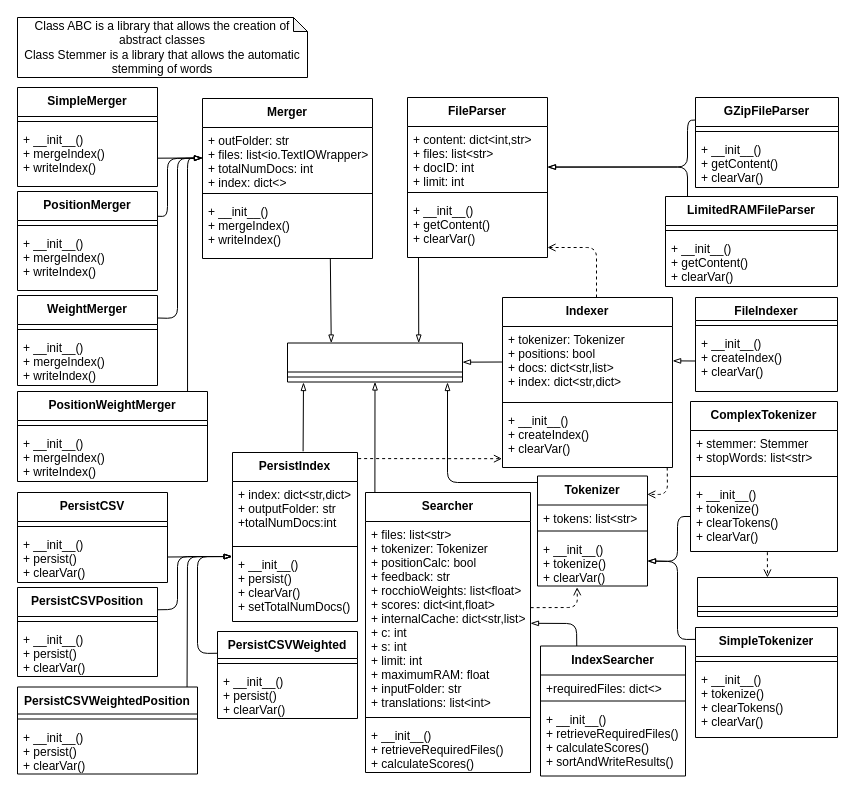
The diagram is 856 pixels wide and 796 high, and some of its shapes have lost their labels. The shapes that lost their labels are listed below. From the top down, each one's centre as x and y in pixels, then its label:
At [374,362]: "abc.ABC".
At [767,596]: "Stemmer".
